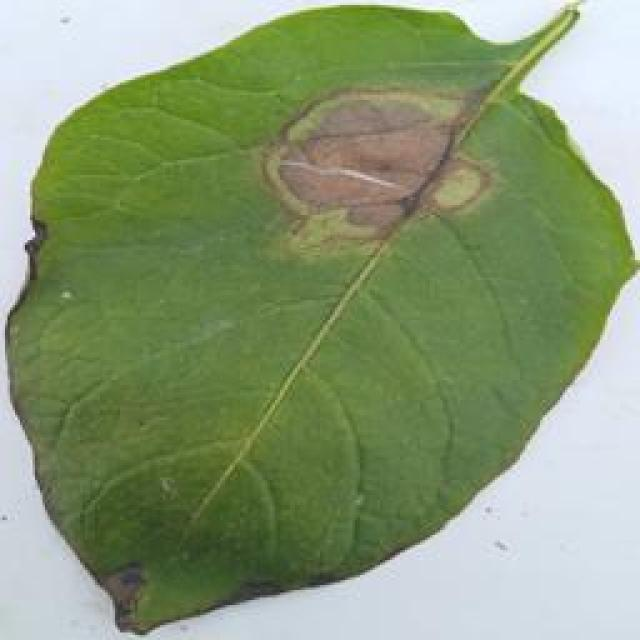Potato_Late_Blight: (12, 5, 640, 635)
